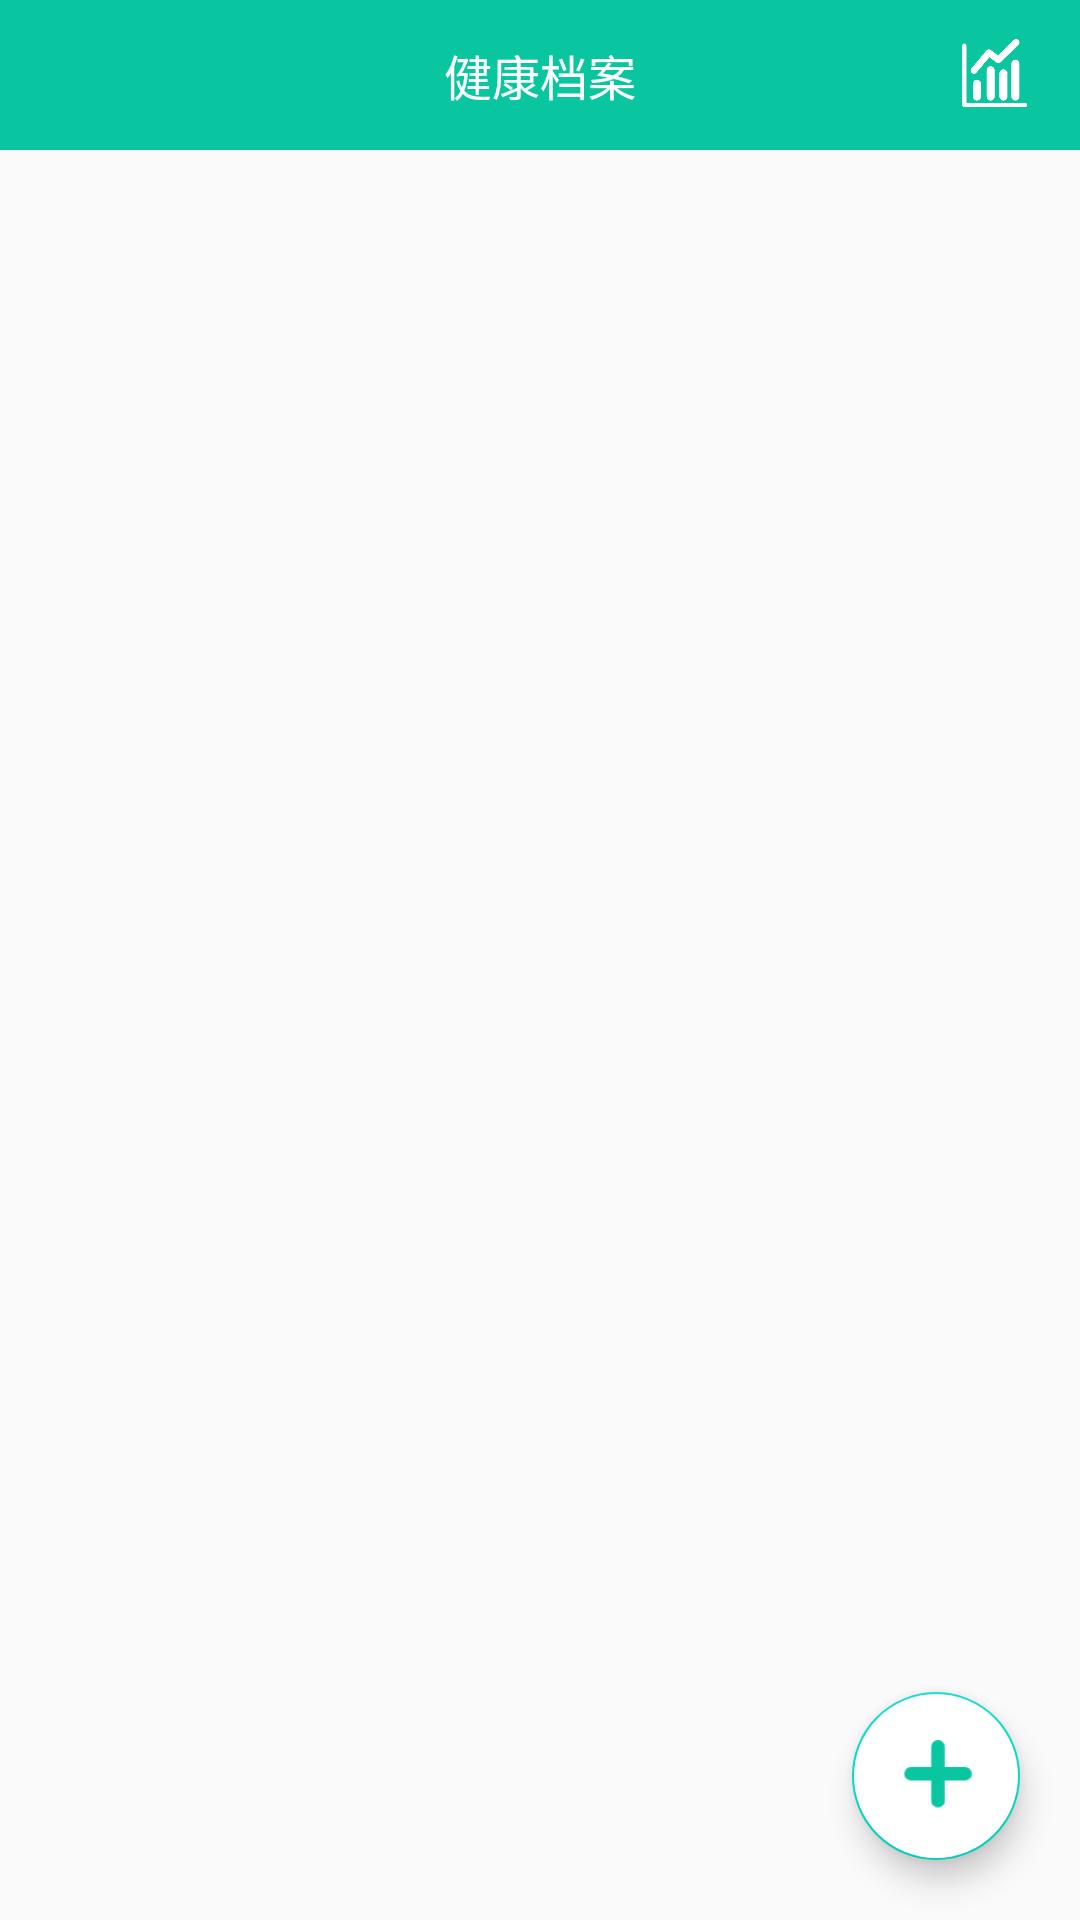

Where to tap for icons on this 1080x1920 app screen, as [x,y]:
add: [936,1776]
line: [994,73]
